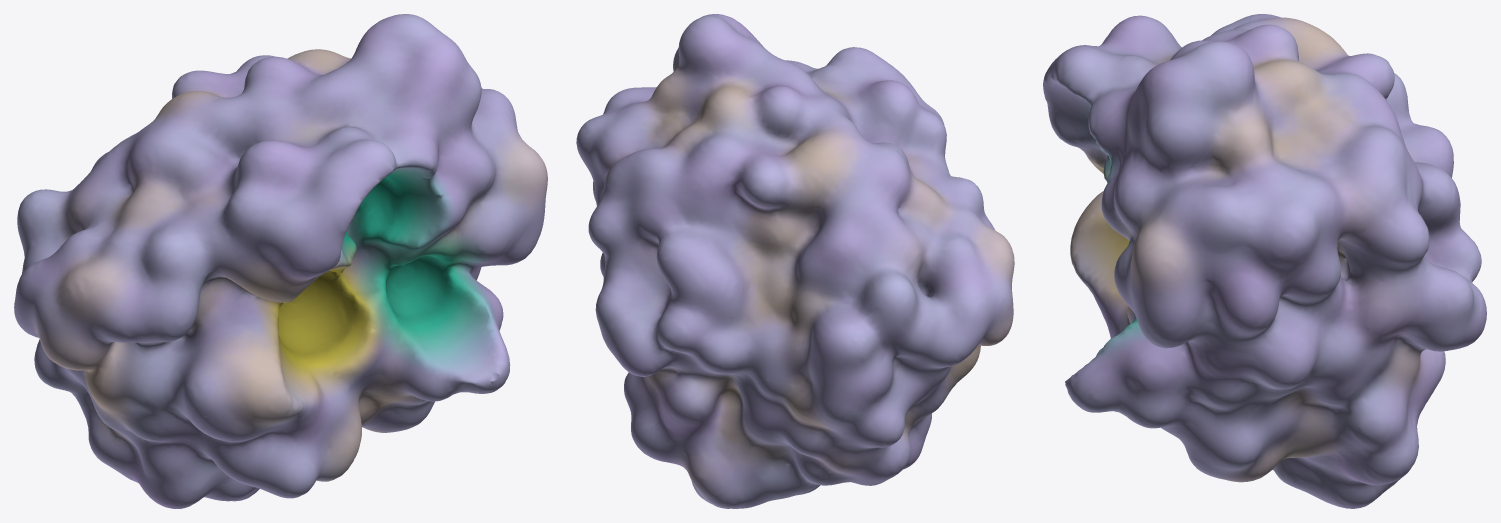
The model's file is tripsina_facil.glb.
3 renders of one model, left to right at view 1: azimuth 30°, elevation 25°; view 2: azimuth 150°, elevation 25°; view 3: azimuth 270°, elevation 25°, orthographic. The views are drawn at different scales.
Parts seen in each view (by area): view 1: geometry_0; view 2: geometry_0; view 3: geometry_0.
Boxes of the visible parts, <box> form: geometry_0: <box>14,14,547,508</box>; geometry_0: <box>576,14,1014,508</box>; geometry_0: <box>1043,14,1486,508</box>.
Bounding box in the file's own units: 0.4545 × 0.4497 × 0.3579.
